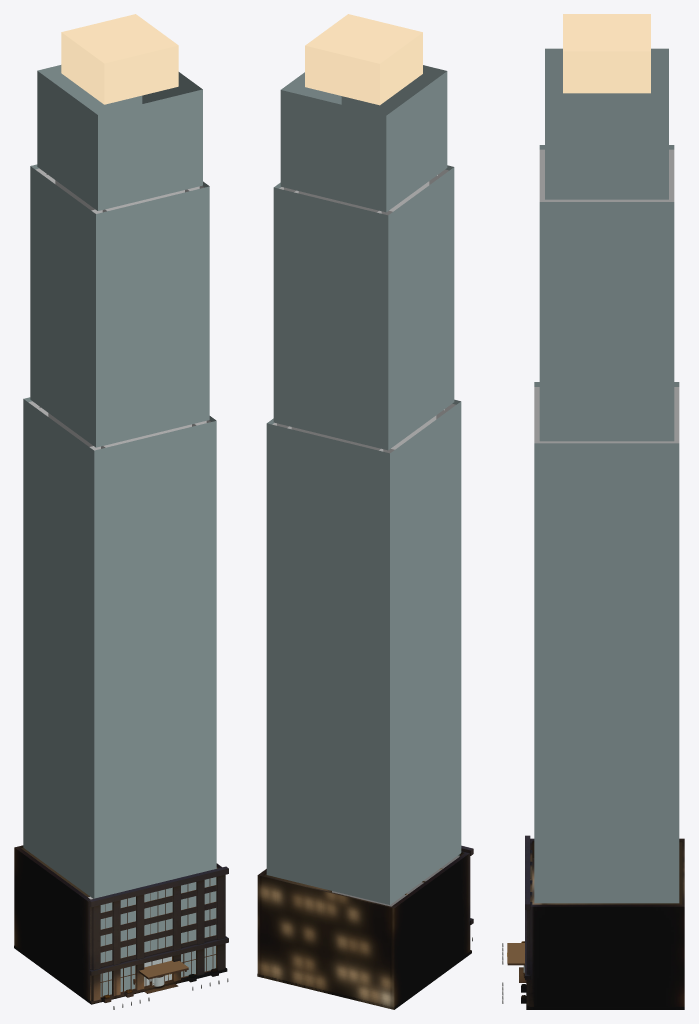
Rendered from ext_podium.glb.
The picture shows the model from 3 angles, left to right: view 1: azimuth 30°, elevation 25°; view 2: azimuth 150°, elevation 25°; view 3: azimuth 270°, elevation 25°; orthographic projection. The views are drawn at different scales.
Parts seen in each view (by area): view 1: ext_podium; view 2: ext_podium; view 3: ext_podium.
Boxes of the visible parts, x1,y1,x2,y2 form: ext_podium: [14, 14, 228, 1009]; ext_podium: [257, 14, 473, 1009]; ext_podium: [502, 14, 684, 1009].
Size of the model in its own units: 31.4 by 201 by 35.21.
23 materials, 10 textured.
